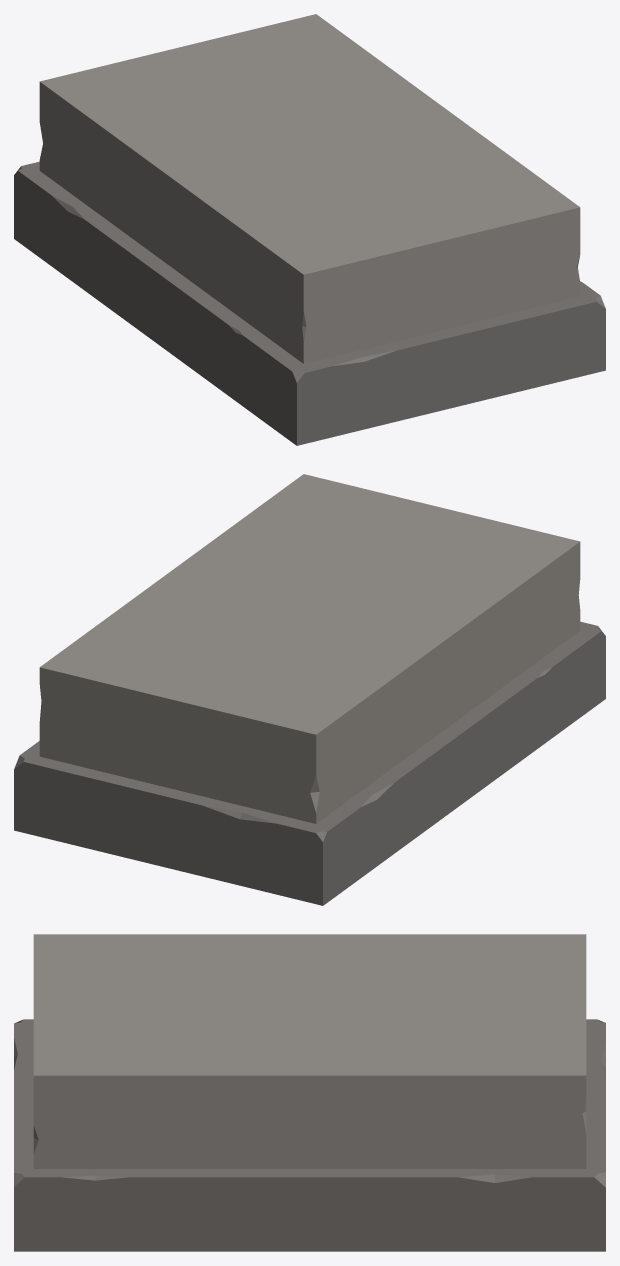
The model's file is SM_Env_Base_12.fbx.
The picture shows the model from 3 angles, top to bottom: view 1: azimuth 30°, elevation 25°; view 2: azimuth 150°, elevation 25°; view 3: azimuth 270°, elevation 25°; orthographic projection. The views are drawn at different scales.
Parts seen in each view (by area): view 1: SM_Env_Base_12; view 2: SM_Env_Base_12; view 3: SM_Env_Base_12.
Part boxes in pixels (left/top/right/bottom): SM_Env_Base_12: left=14, top=14, right=605, bottom=445; SM_Env_Base_12: left=14, top=474, right=605, bottom=905; SM_Env_Base_12: left=14, top=934, right=605, bottom=1251.
Bounding box in the file's own units: 471 × 233 × 746.
Materials: 1 (1 with a texture image).
